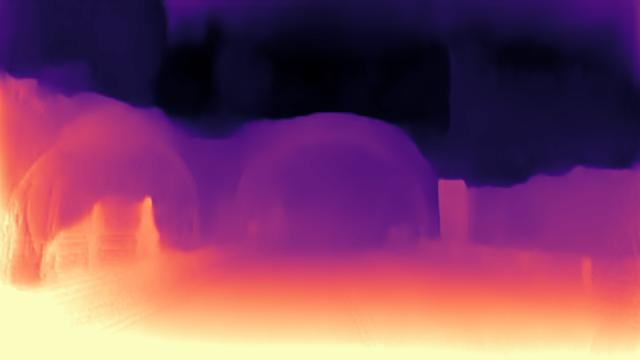Real_Tunnel: (231, 111, 444, 279), (1, 112, 203, 266)
